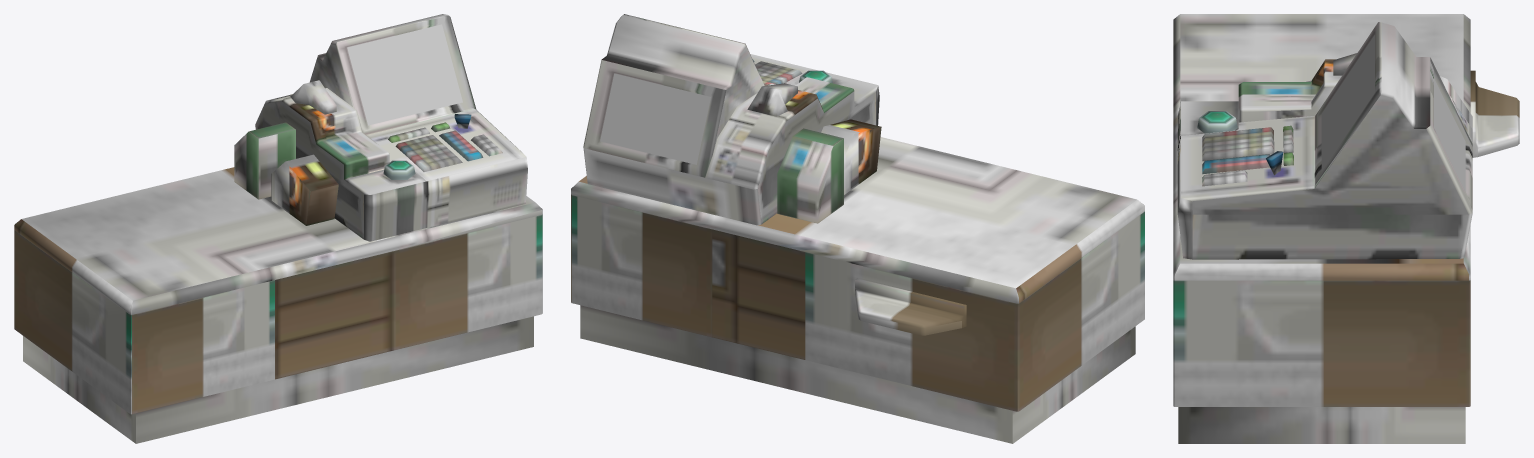
The model's file is int_cvn_counter.dae.
3 renders of one model, left to right at view 1: azimuth 30°, elevation 25°; view 2: azimuth 150°, elevation 25°; view 3: azimuth 270°, elevation 25°, orthographic. The views are drawn at different scales.
Visible parts, largest first — view 1: _0_0_node, _1_0_node; view 2: _0_0_node, _1_0_node; view 3: _0_0_node, _1_0_node.
Boxes of the visible parts, x1,y1,x2,y2 form: _0_0_node: (14,14,542,443); _1_0_node: (347,24,462,125); _0_0_node: (571,14,1144,443); _1_0_node: (600,73,710,164); _0_0_node: (1173,14,1519,443); _1_0_node: (1321,35,1465,191).
Size of the model in its own units: 50.82 by 32.38 by 29.14.
